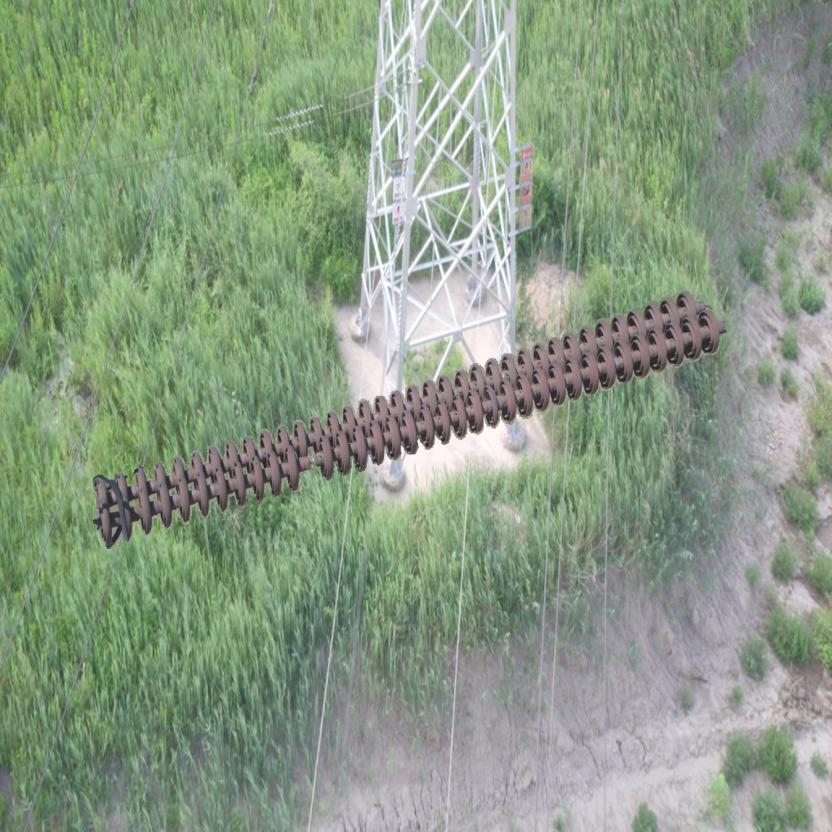defect: (284, 432, 340, 492)
